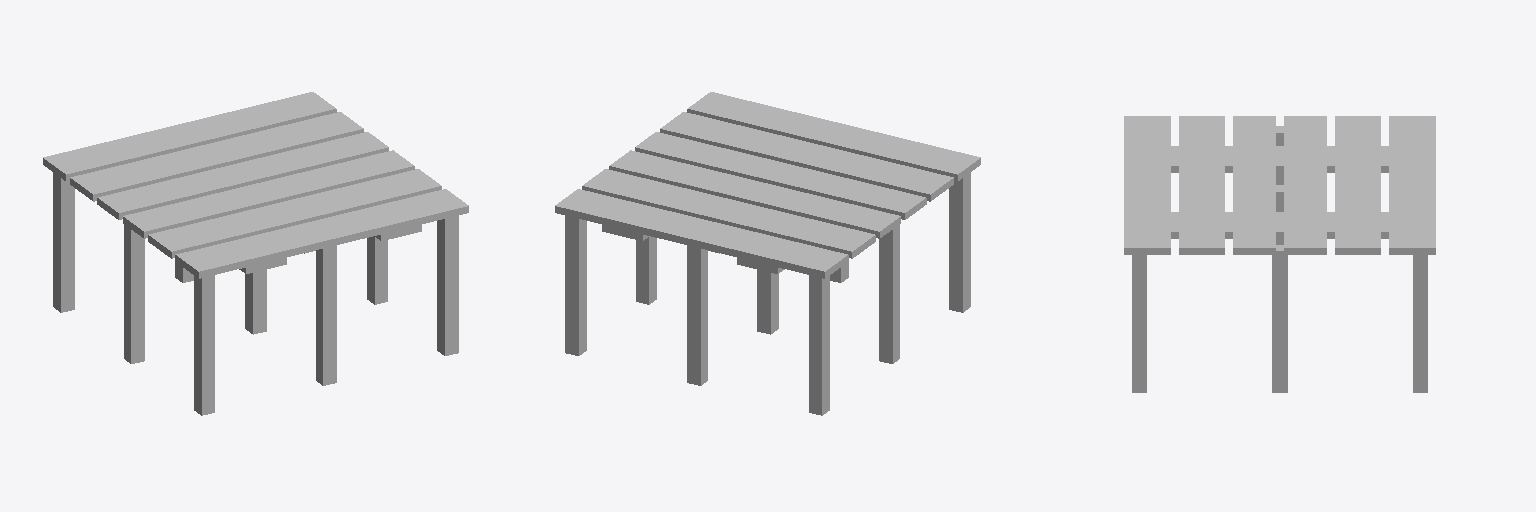
The model's file is scaffold_medium.obj.
The picture shows the model from 3 angles: view 1: azimuth 30°, elevation 25°; view 2: azimuth 150°, elevation 25°; view 3: azimuth 270°, elevation 25°; orthographic projection.
Visible parts, largest first — view 1: scaffold_medium_Cube.2471; view 2: scaffold_medium_Cube.2471; view 3: scaffold_medium_Cube.2471.
Boxes of the visible parts, x1,y1,x2,y2 form: scaffold_medium_Cube.2471: [43, 92, 468, 415]; scaffold_medium_Cube.2471: [555, 92, 980, 415]; scaffold_medium_Cube.2471: [1124, 116, 1435, 392].
Size of the model in its own units: 4 by 2.1 by 4.